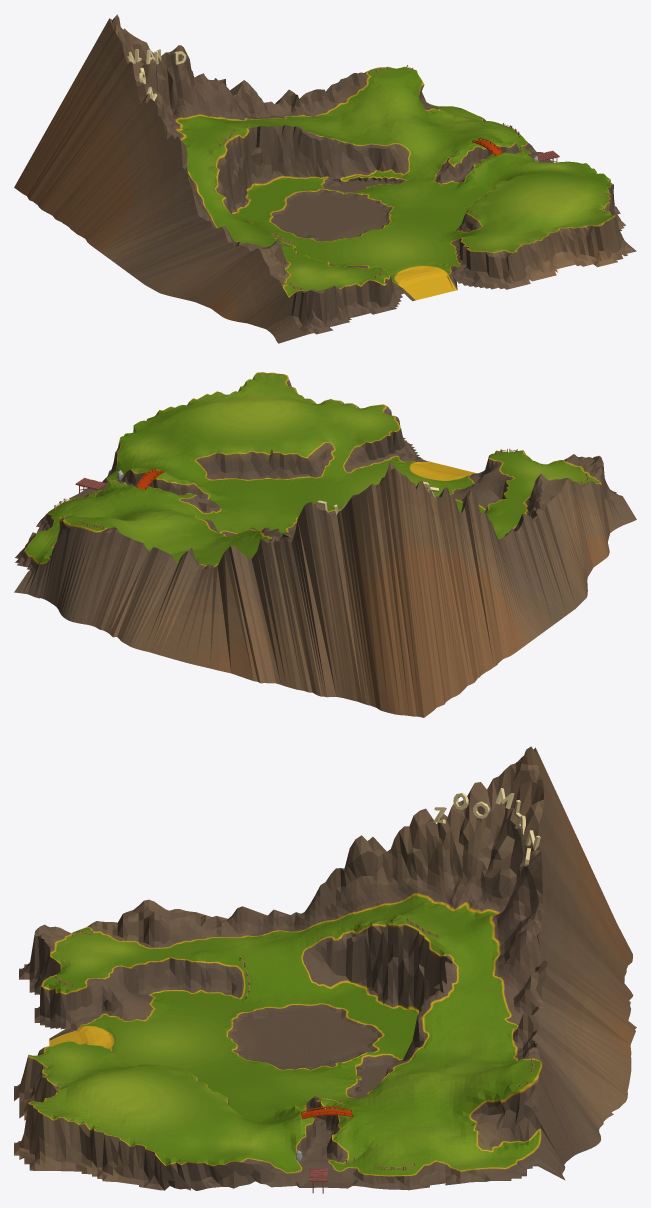
The model's file is Landscape_2.glb.
The picture shows the model from 3 angles, top to bottom: view 1: azimuth 30°, elevation 25°; view 2: azimuth 150°, elevation 25°; view 3: azimuth 270°, elevation 25°; orthographic projection. The views are drawn at different scales.
Parts seen in each view (by area): view 1: Map, Text; view 2: Map; view 3: Map, Text.
Boxes of the visible parts, bbox=[...] form: Map: bbox=[14, 14, 636, 343]; Text: bbox=[127, 49, 186, 100]; Map: bbox=[14, 372, 636, 717]; Map: bbox=[14, 746, 636, 1190]; Text: bbox=[433, 788, 540, 865].
Size of the model in its own units: 21.67 by 8.93 by 21.39.
Materials: 7 (1 with a texture image).
